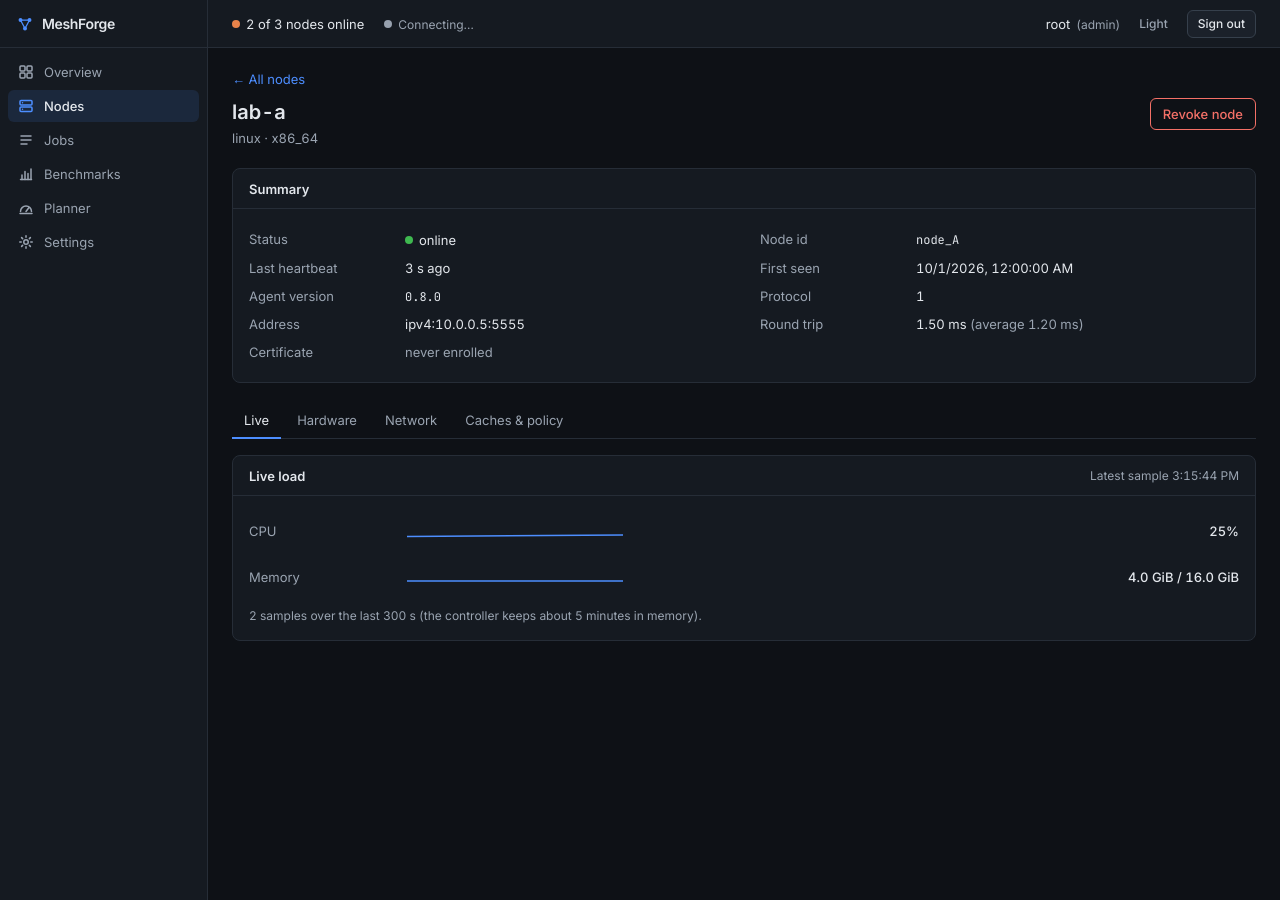
Scenario: Node detail › summary, live samples, hardware, network (stale/unknown labelled), caches and policy
Expected: the heading "lab-a" is shown, x1=232 y1=100 x2=286 y2=124
Expected: the element with test id "node-status" reads "online", x1=419 y1=232 x2=456 y2=248
Step 1. Click the tab "Hardware" → (327, 421), box x1=285 y1=403 x2=369 y2=439
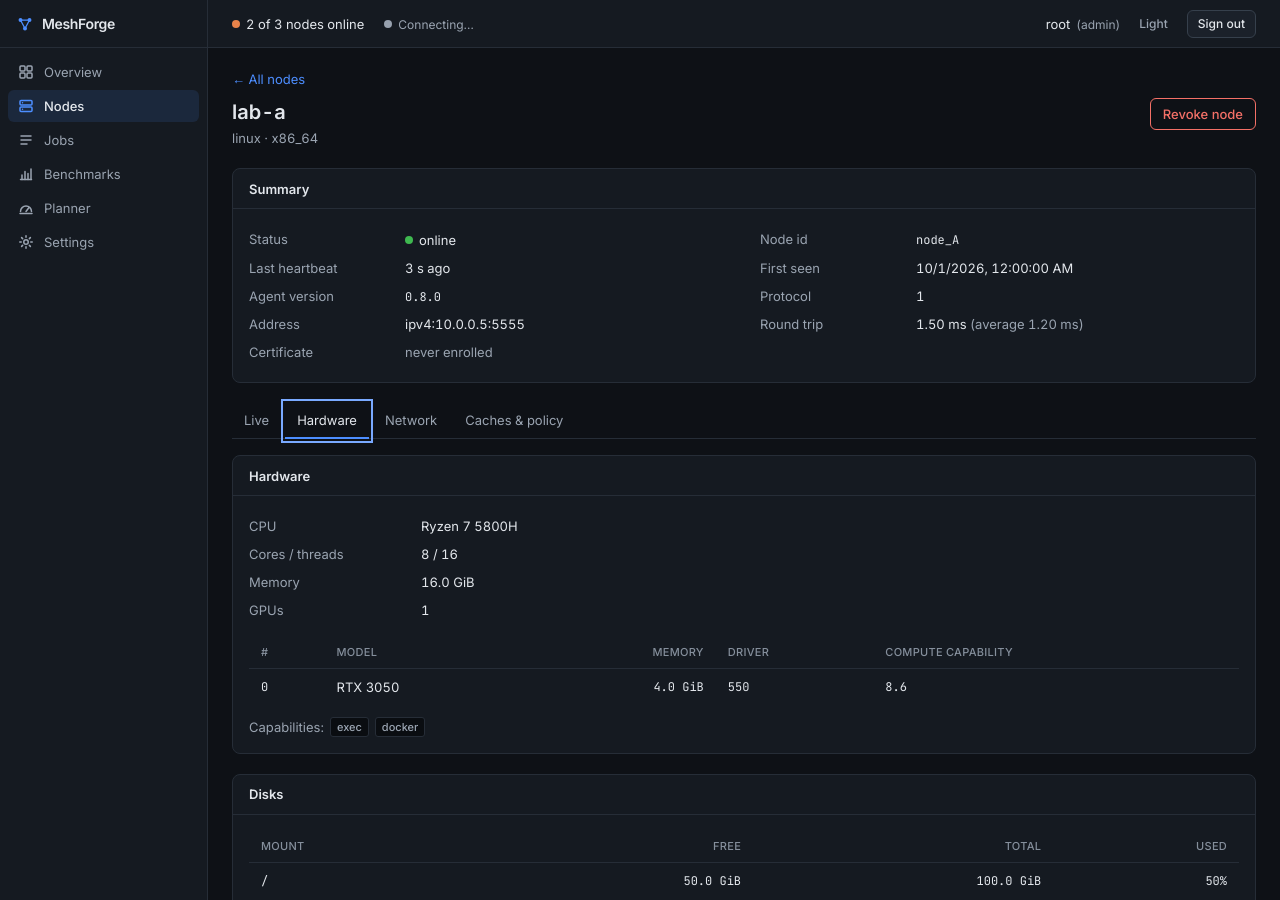
Expected: the element with test id "hardware-card" shows "Ryzen 7 5800H", x1=421 y1=518 x2=518 y2=534
Expected: the element with test id "hardware-card" shows "8 / 16", x1=421 y1=546 x2=458 y2=562
Expected: the element with test id "hardware-card" shows "RTX 3050", x1=336 y1=678 x2=399 y2=694
Step 2. Click the tab "Network" → (411, 421), box x1=373 y1=403 x2=449 y2=439
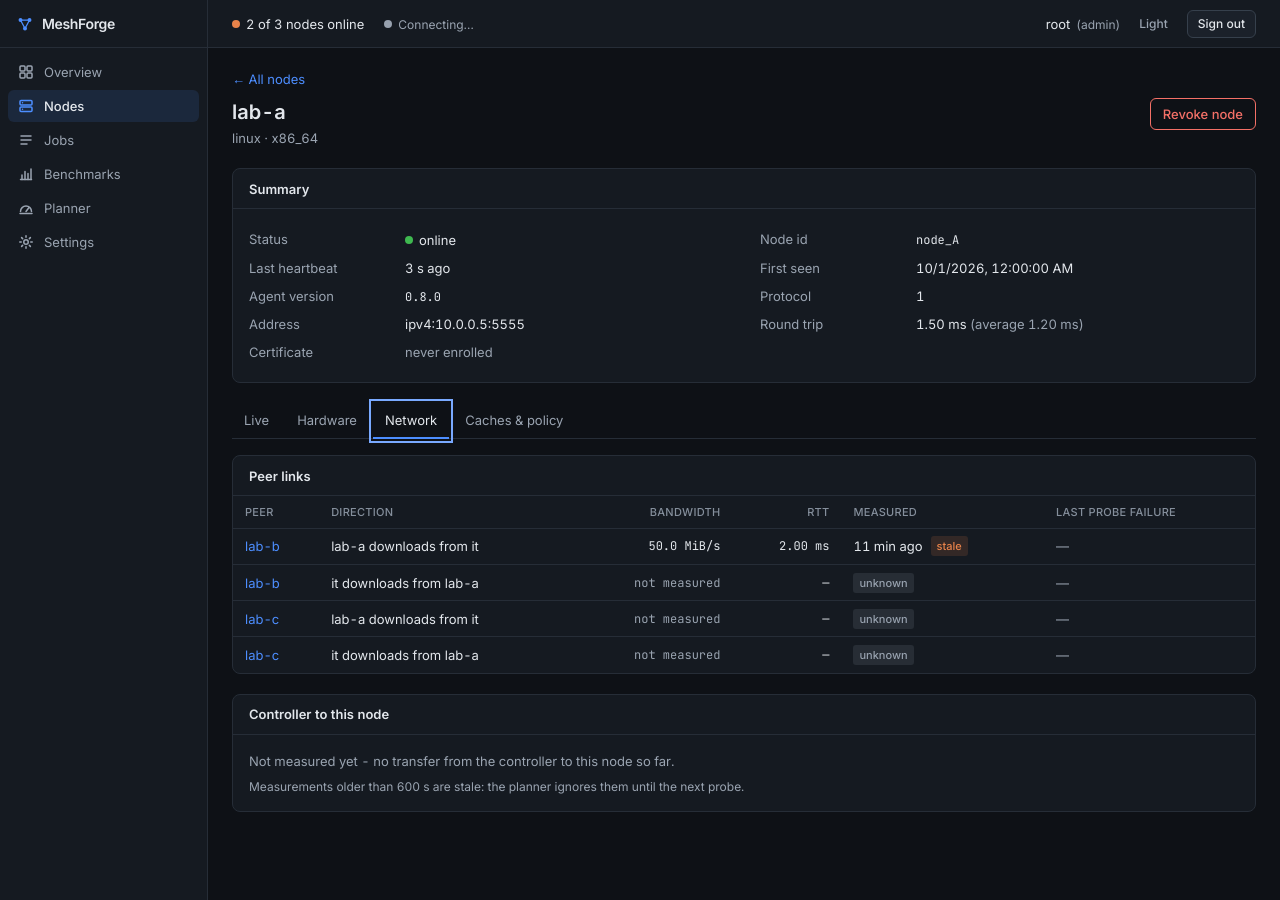
Expected: the element with test id "network-card" shows "50.0 MiB/s", x1=648 y1=538 x2=720 y2=554
Expected: the text "stale" is shown, x1=931 y1=536 x2=968 y2=556
Expected: the 1st text "unknown" is shown, x1=854 y1=573 x2=914 y2=593
Step 3. Click the tab "Caches & policy" → (514, 421), box x1=453 y1=403 x2=576 y2=439
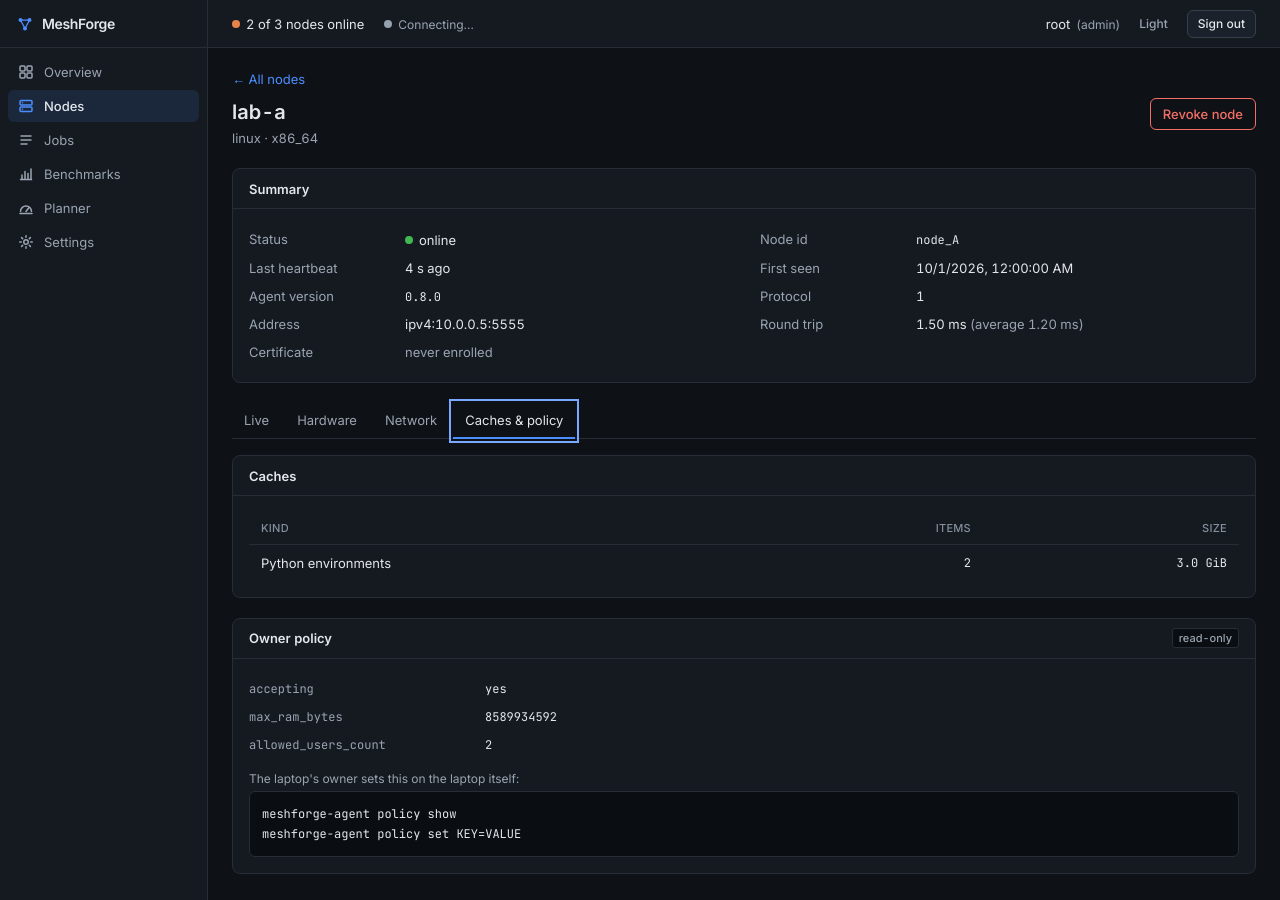
Expected: the element with test id "caches-card" shows "Python environments", x1=261 y1=554 x2=391 y2=570
Expected: the element with test id "caches-card" shows "3.0 GiB", x1=1177 y1=554 x2=1227 y2=570
Expected: the element with test id "policy-card" shows "max_ram_bytes", x1=249 y1=708 x2=343 y2=724
